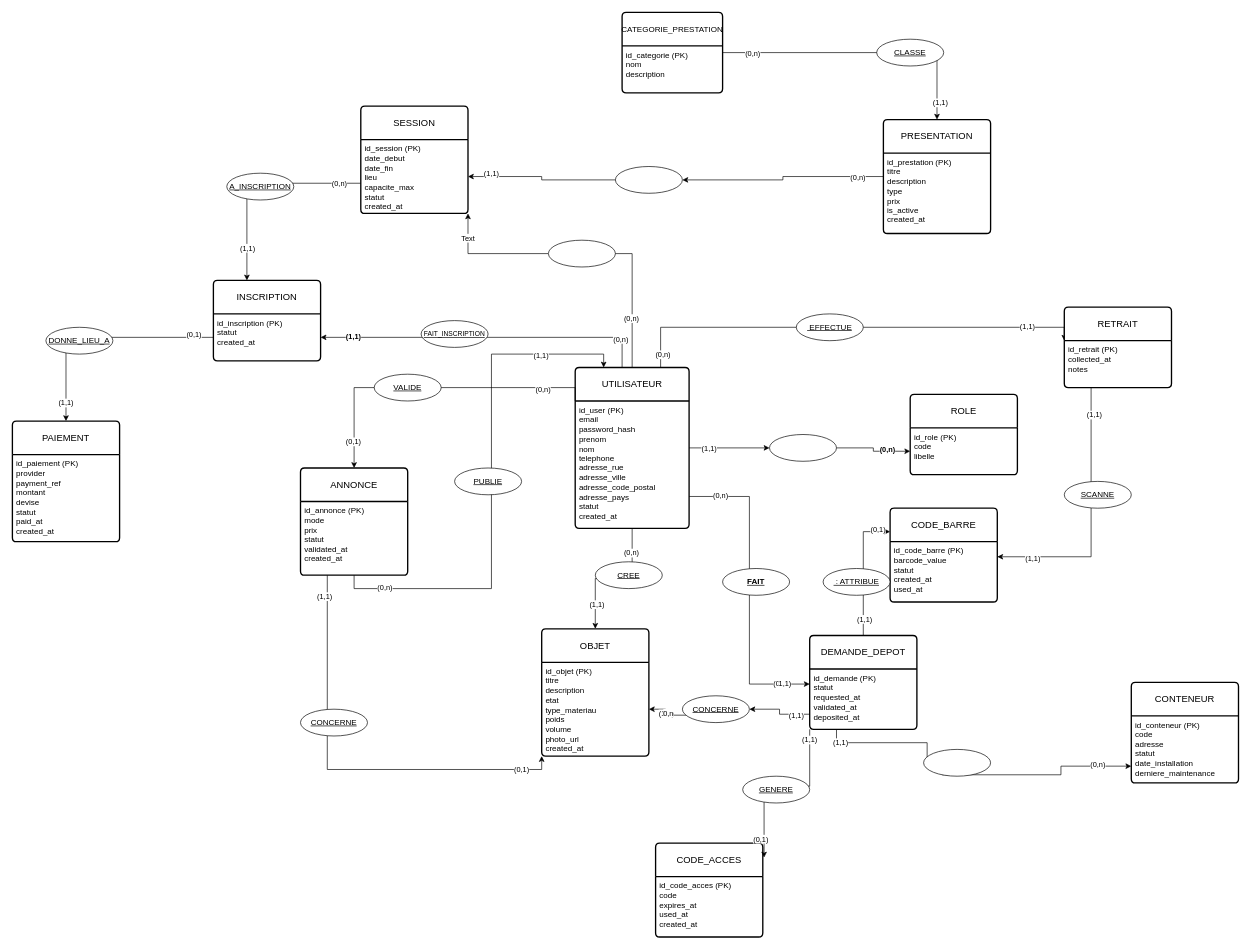
The diagram is 1250 pixels wide and 949 high, and some of its shapes have lost their labels. Each missing label, with the centre of its shape:
"A_POUR_ROLE" belongs at (x=802, y=447).
"DEPOSE_DANS" belongs at (x=957, y=762).
"PROPOSE" belongs at (x=648, y=179).
"VALIDE_SESSION" belongs at (x=581, y=253).
